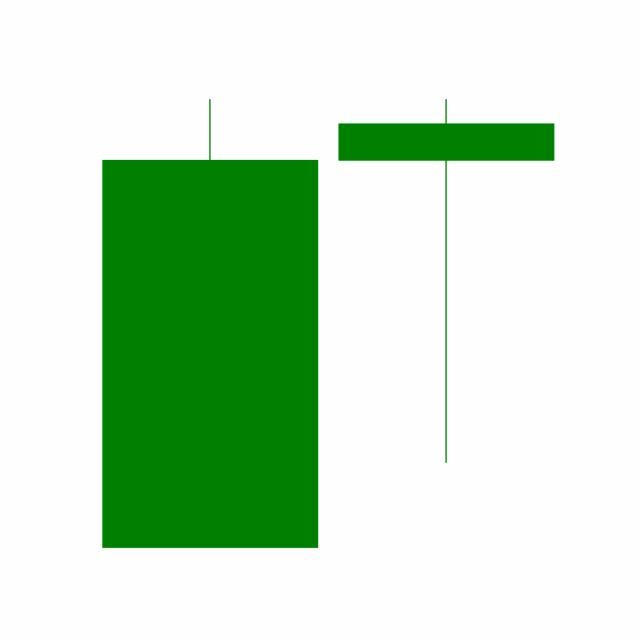Dragonfly Doji: (327, 94, 565, 466)
